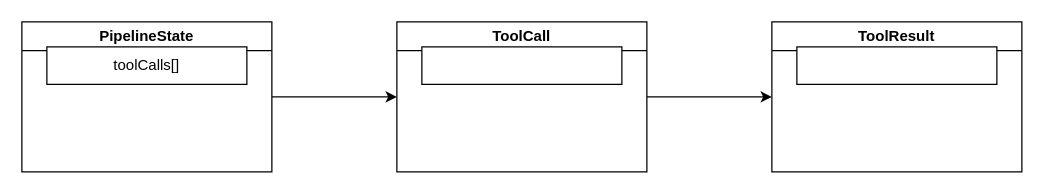
The diagram is 1044 pixels wide and 194 high, and some of its shapes have lost their labels. Each missing label, with the centre of its shape:
id, name, arguments: [521,65]
toolCallId, name, content: [896,65]
